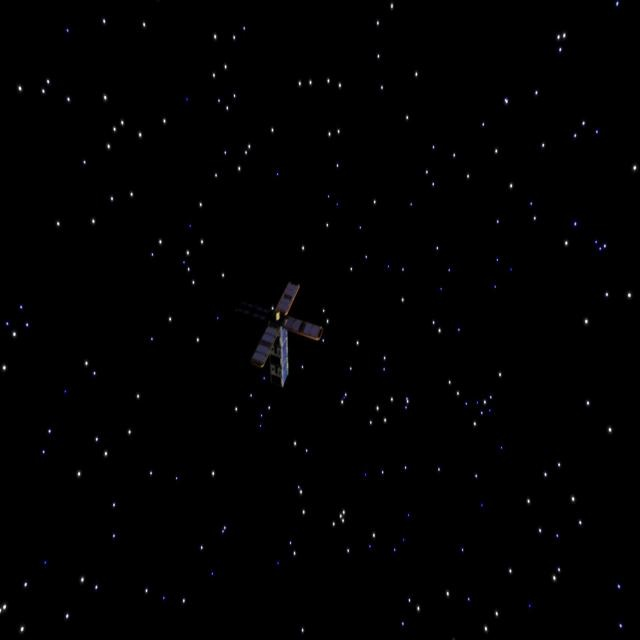medium_debris: (242, 286, 331, 401)
